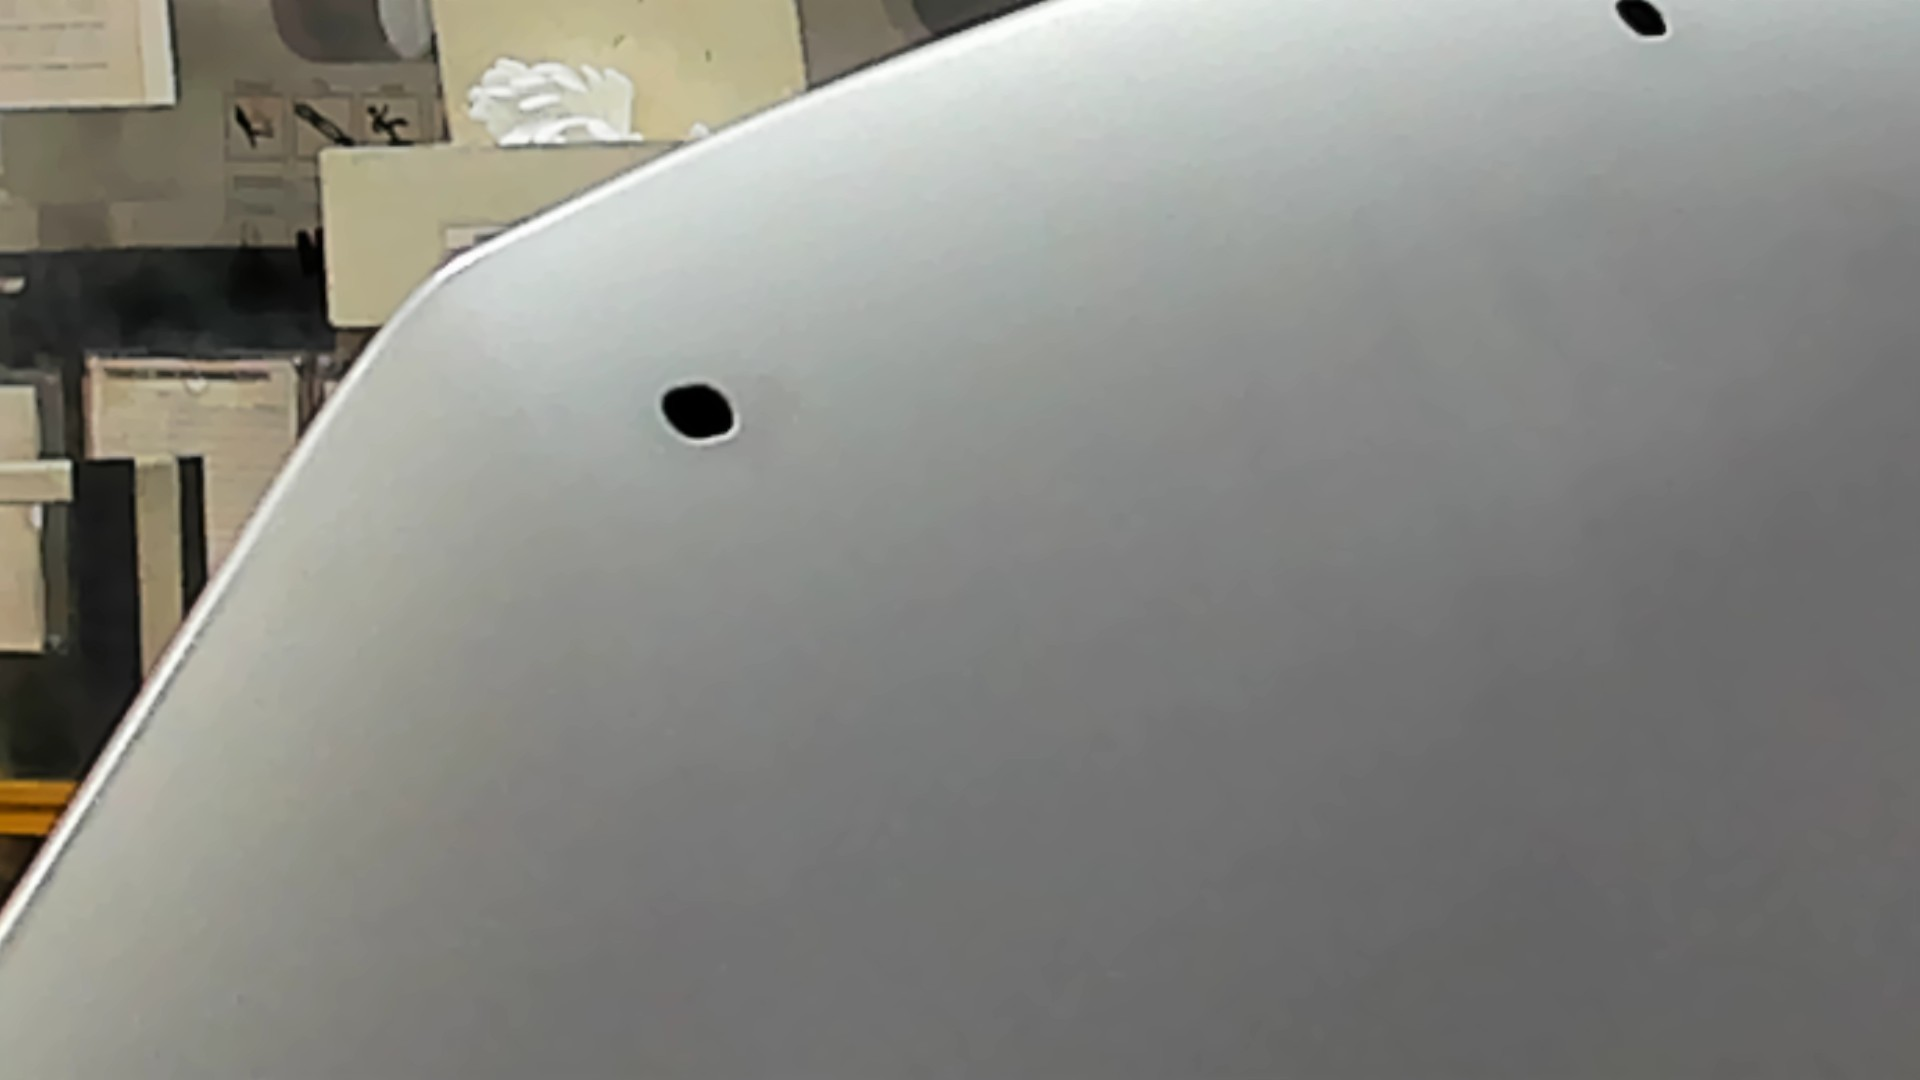Agujero: (654, 377, 744, 447), (1609, 1, 1677, 44)
